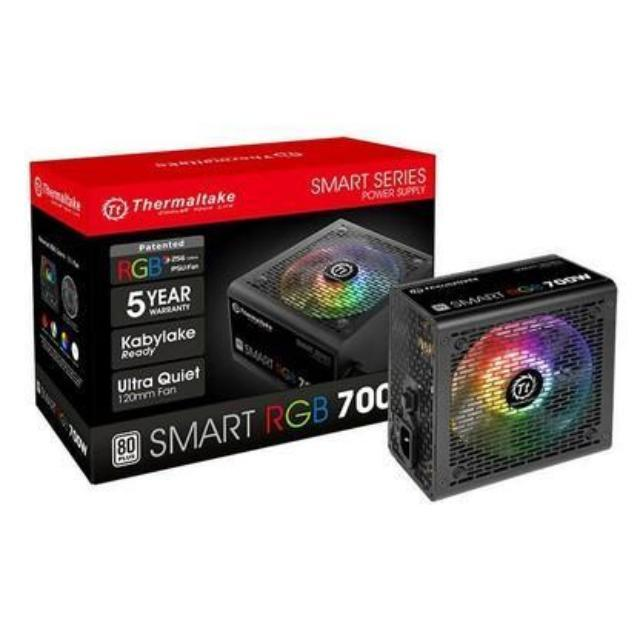PSU: (384, 249, 624, 506)
